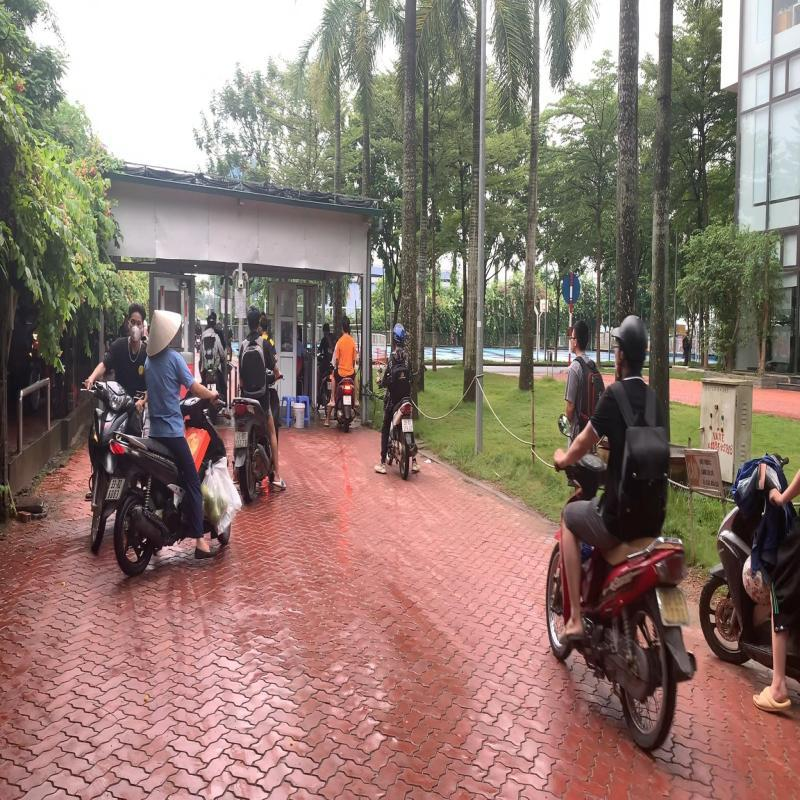nohelmet: (247, 304, 260, 332), (340, 314, 350, 333)
